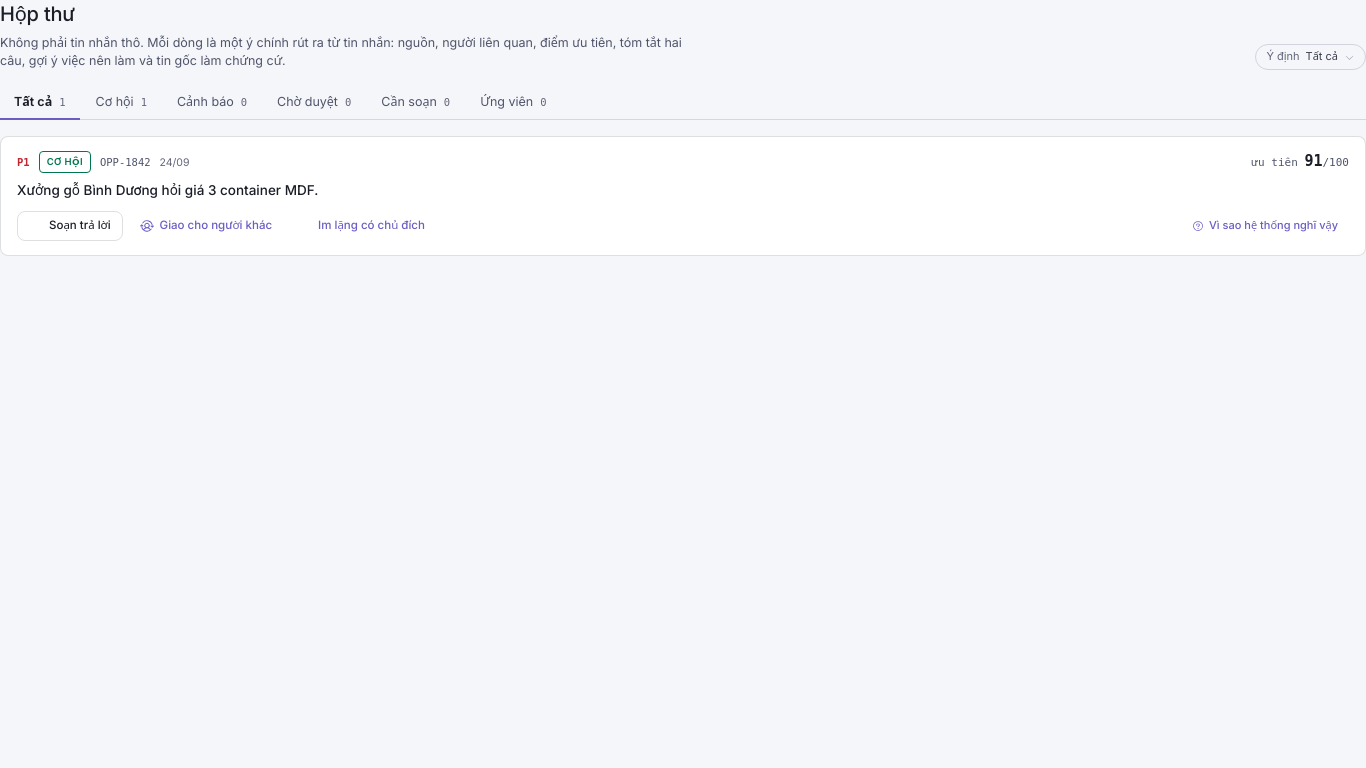
Hộp thư ý nghĩa › Giao cho người khác › chỉ có người đang đăng nhập → "Tôi" + gợi ý: có roles.manage → chỉ đường Điều khiển hệ thống › Người dùng
This screenshot has width=1366, height=768.
Expected: the heading "Xưởng gỗ Bình Dương hỏi giá 3 container MDF." is shown, x1=17 y1=182 x2=318 y2=198
Click the button "Giao cho người khác" at (206, 226), box x1=131 y1=213 x2=281 y2=239
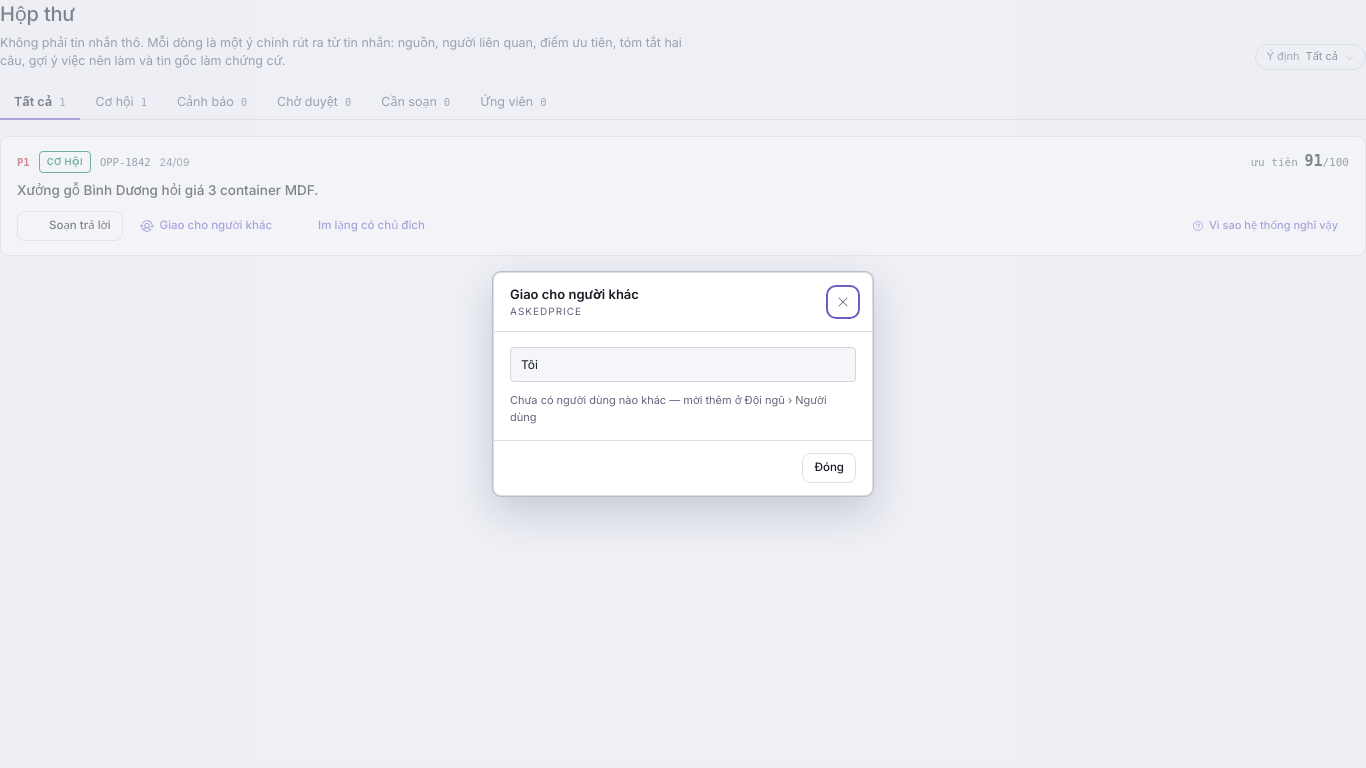
Result: the text "Chưa có người dùng nào khác — mời thêm ở Đội ngũ › Người dùng" is shown at x1=510 y1=392 x2=856 y2=425
Result: the text "Tôi" is shown at x1=521 y1=357 x2=538 y2=372
